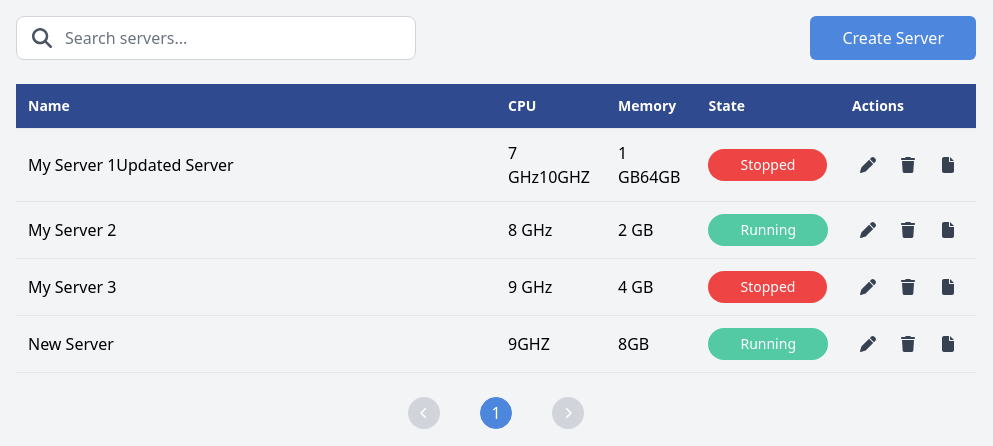
Test case: test app › test delete server functionality
Click the 1st element with test id "delete-server" at [908, 165], box [901, 157, 915, 173]
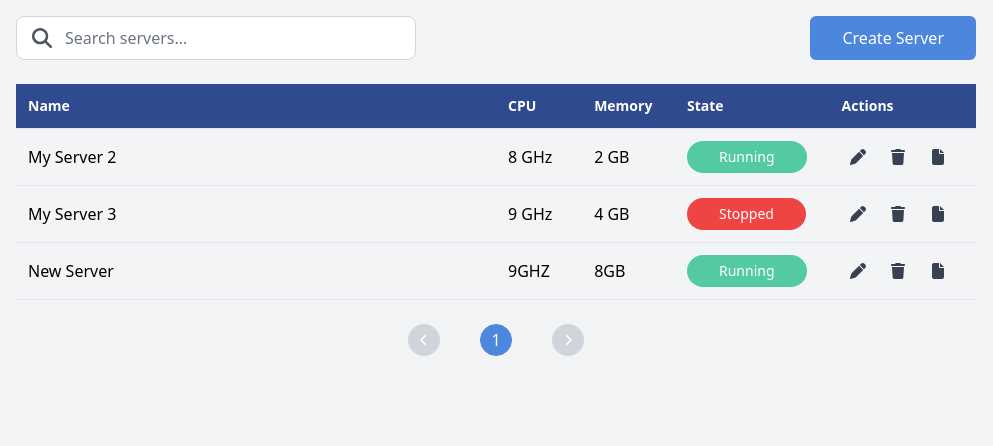
Expected: the number of rows with test id "table-row" is 3, [16, 128, 976, 186]; [16, 186, 976, 242]; [16, 242, 976, 300]
Type "Server 2" into the field with placeholder "Search servers..." at [216, 38], box [16, 16, 416, 60]
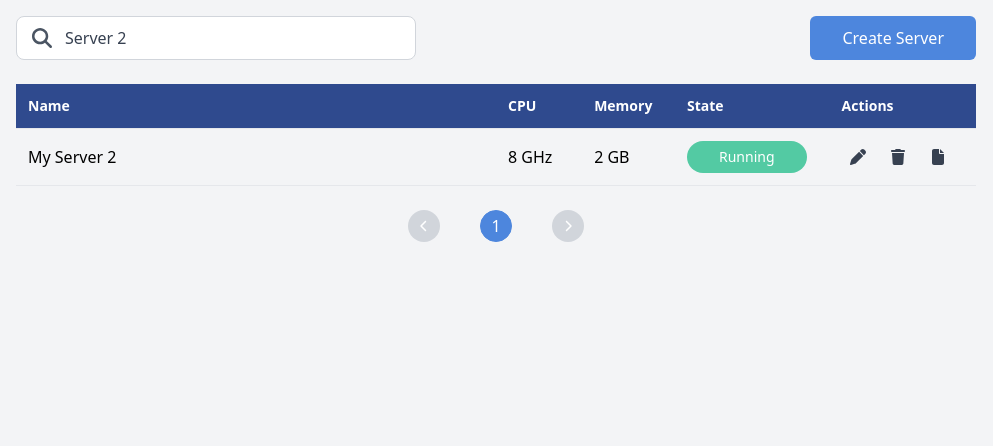
Expected: the number of rows with test id "table-row" is 1, [16, 128, 976, 186]
